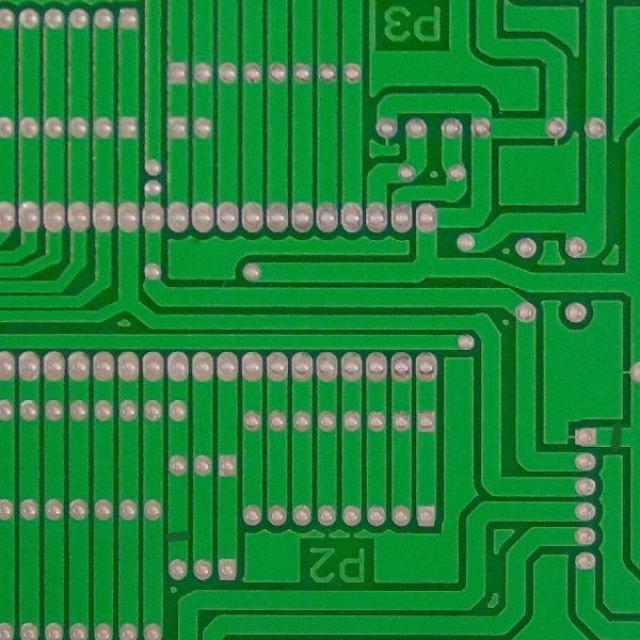open_circuit: (604, 423, 625, 450), (167, 527, 196, 544)
